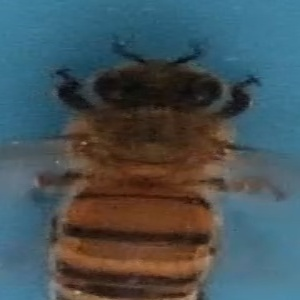bee: (45, 37, 287, 300)
